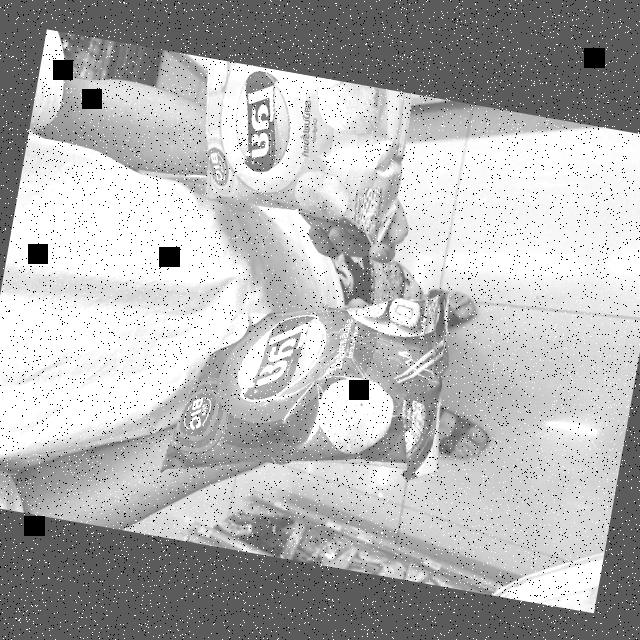snack_bag: (156, 242, 466, 525), (175, 56, 418, 241)
